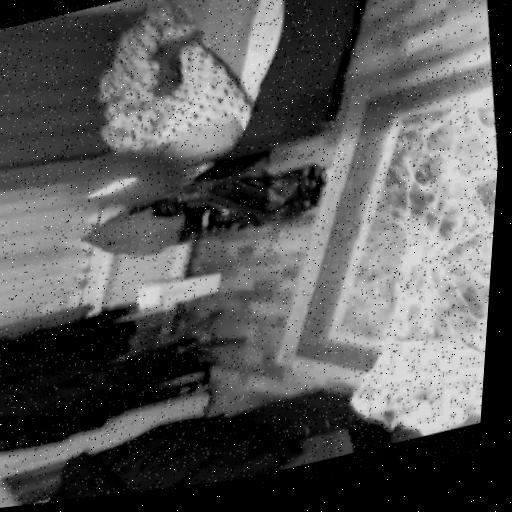balloon: (45, 131, 207, 229)
